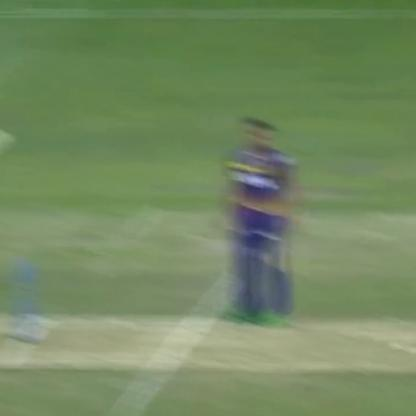pitch: (6, 302, 416, 394)
